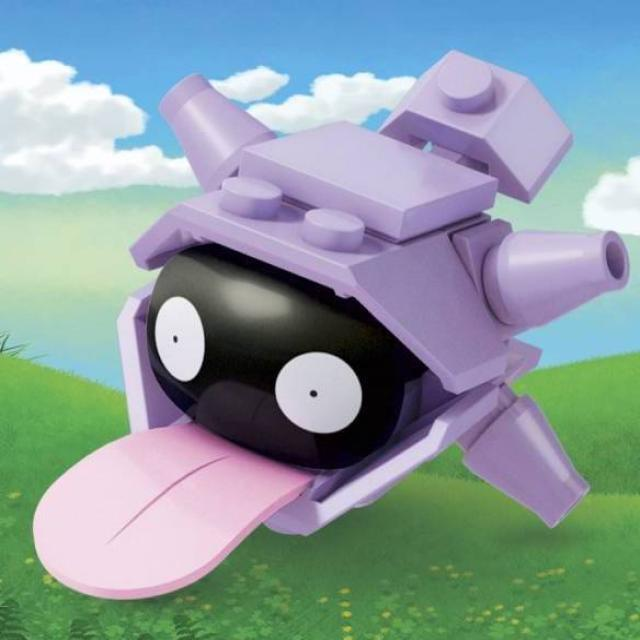Shellder: (106, 72, 588, 553)
